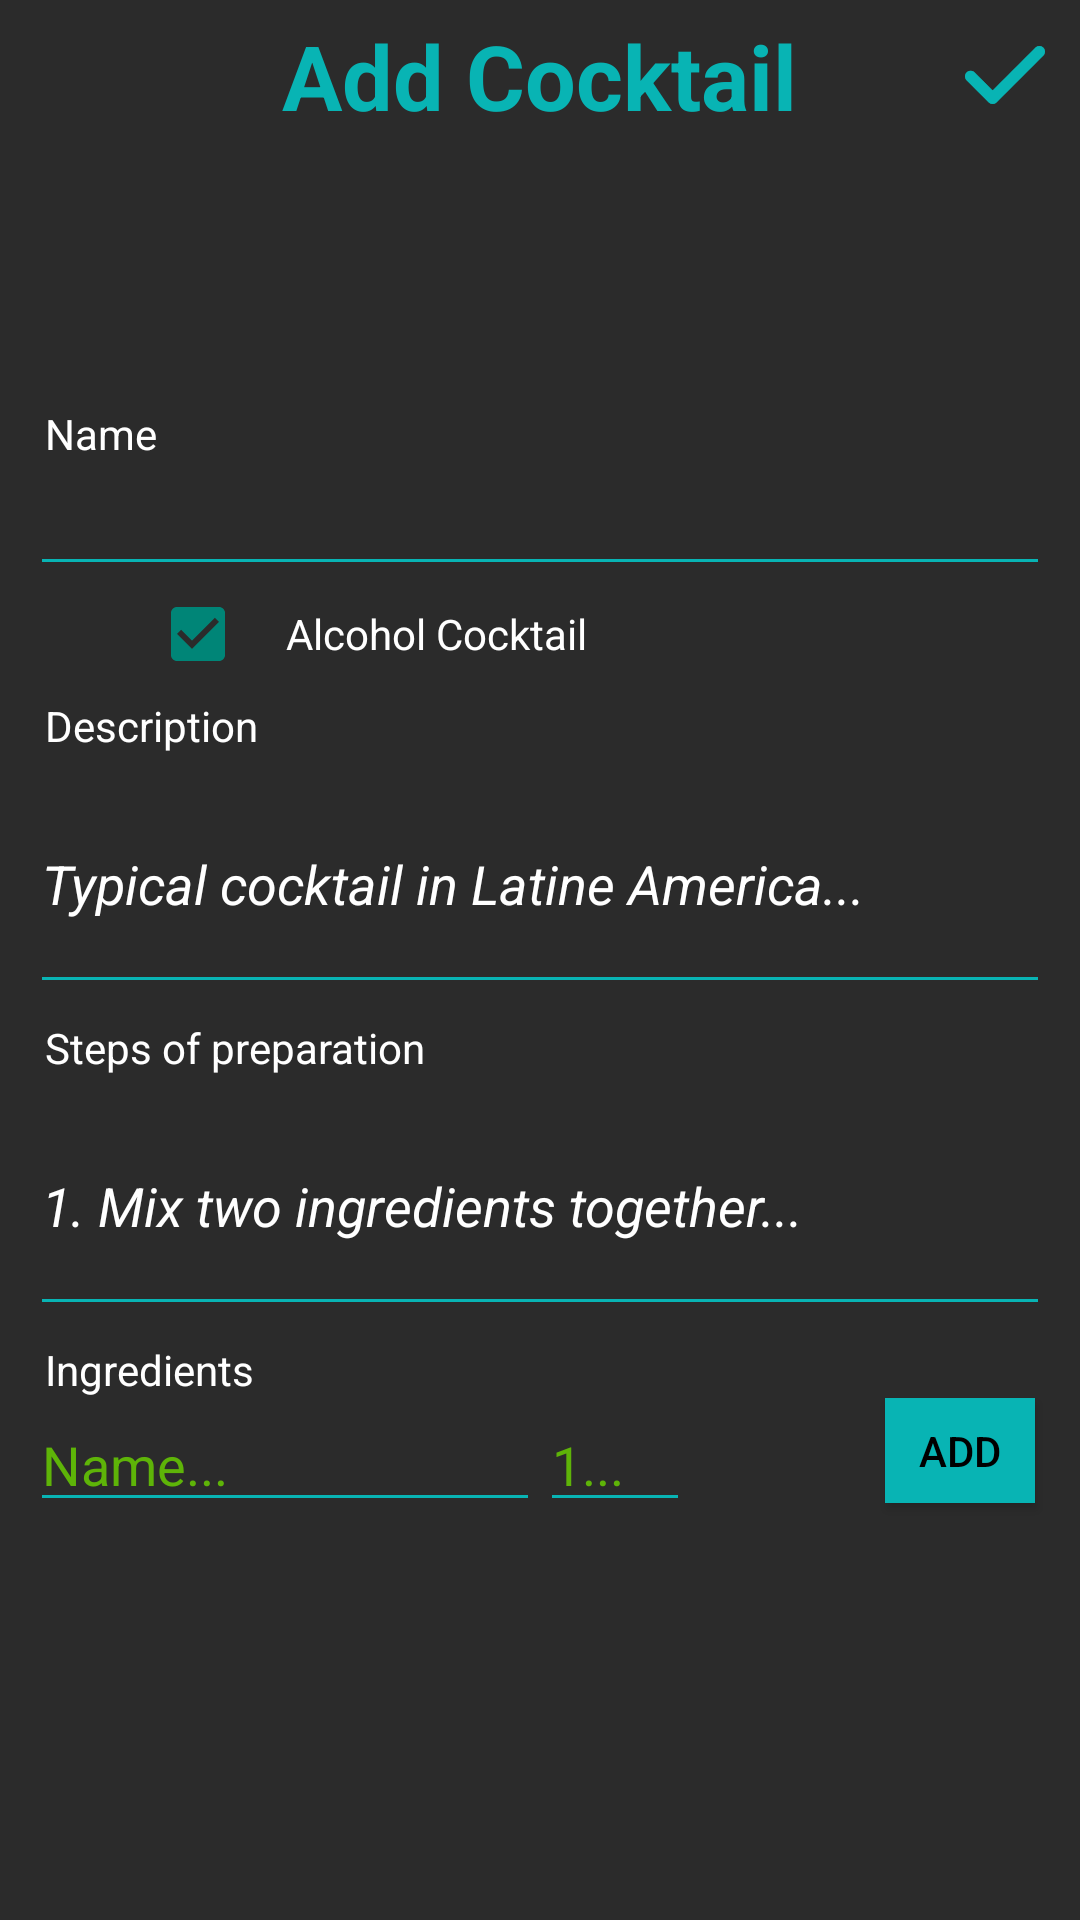

Screen size 1080×1920. Icon name, then its center in pixels as (x,y):
complete: (1005,75)
